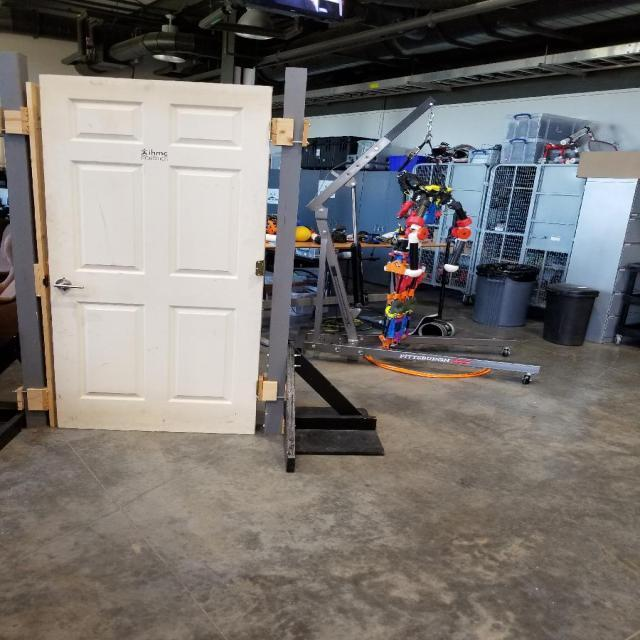door: (34, 72, 276, 442), (56, 276, 88, 293)
